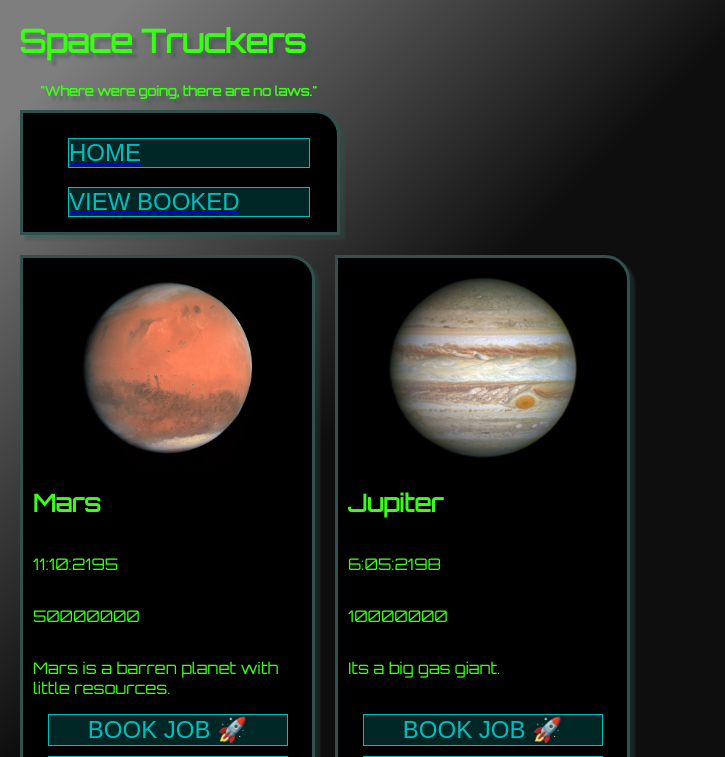
Scenario: Jobs View › Job Booking User Story › Should change the job value to booked when the booked button is clicked
Click the button with id "book1": (168, 730) [48,714,288,746]
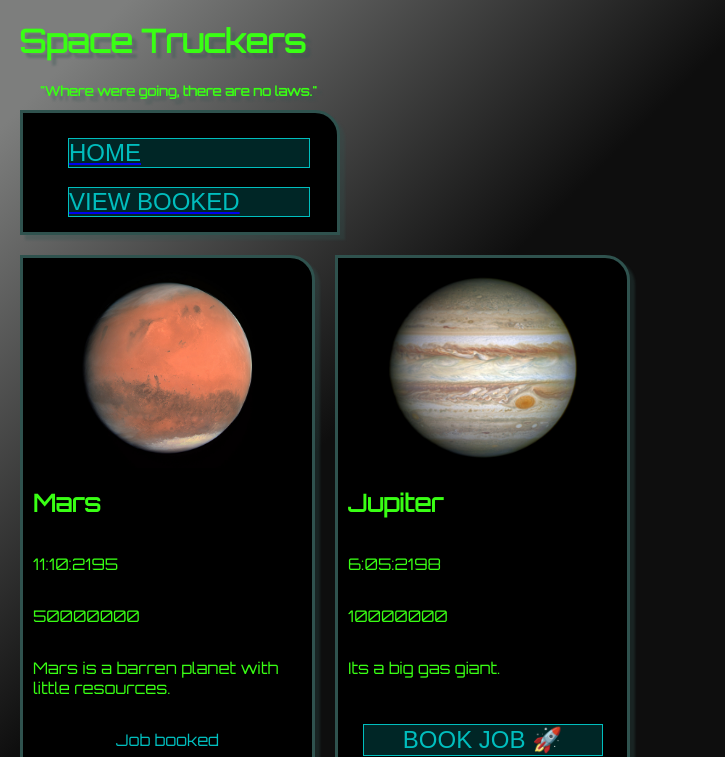
Expected: the text "Job booked" is shown, [116,730,219,750]
